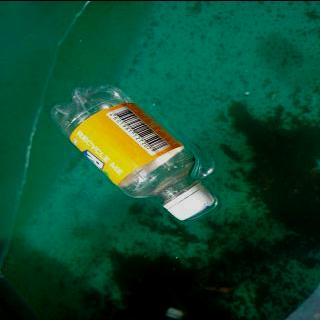bottle: (47, 81, 221, 220)
